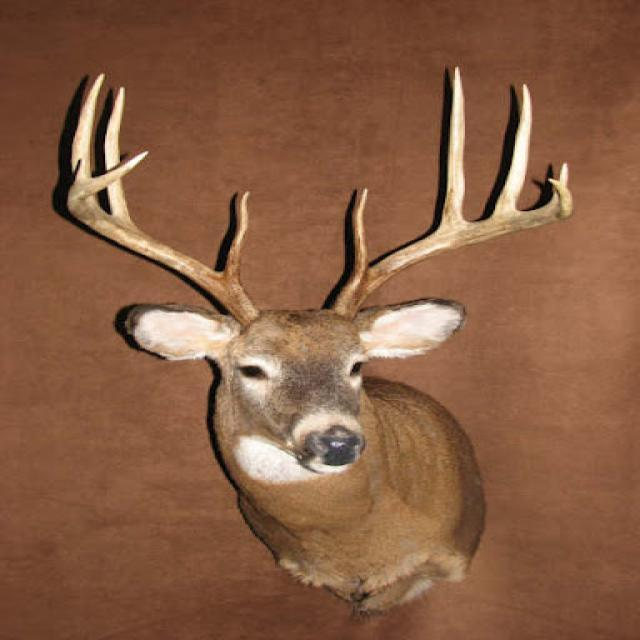E1: (72, 157, 92, 185)
L-G1: (352, 187, 369, 275)
L-G2: (439, 65, 466, 227)
L-G3: (325, 178, 575, 322), (493, 83, 532, 215)
R-F: (66, 150, 262, 328)
R-G1: (223, 190, 252, 281)
